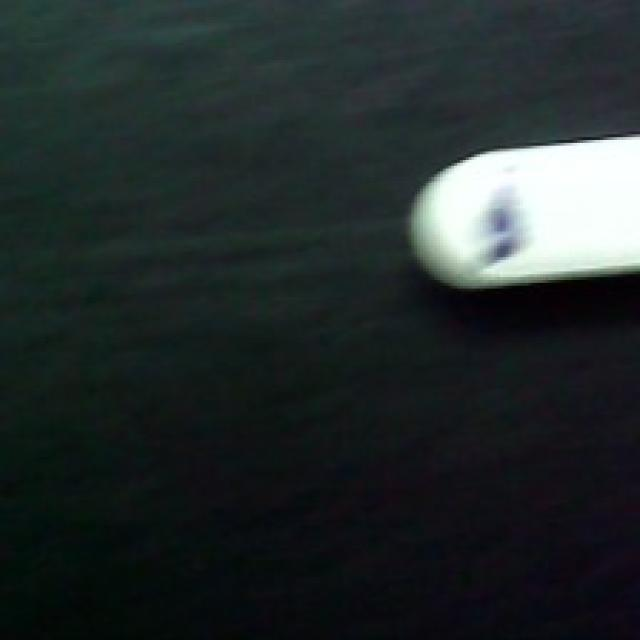defected: (400, 109, 640, 294)
